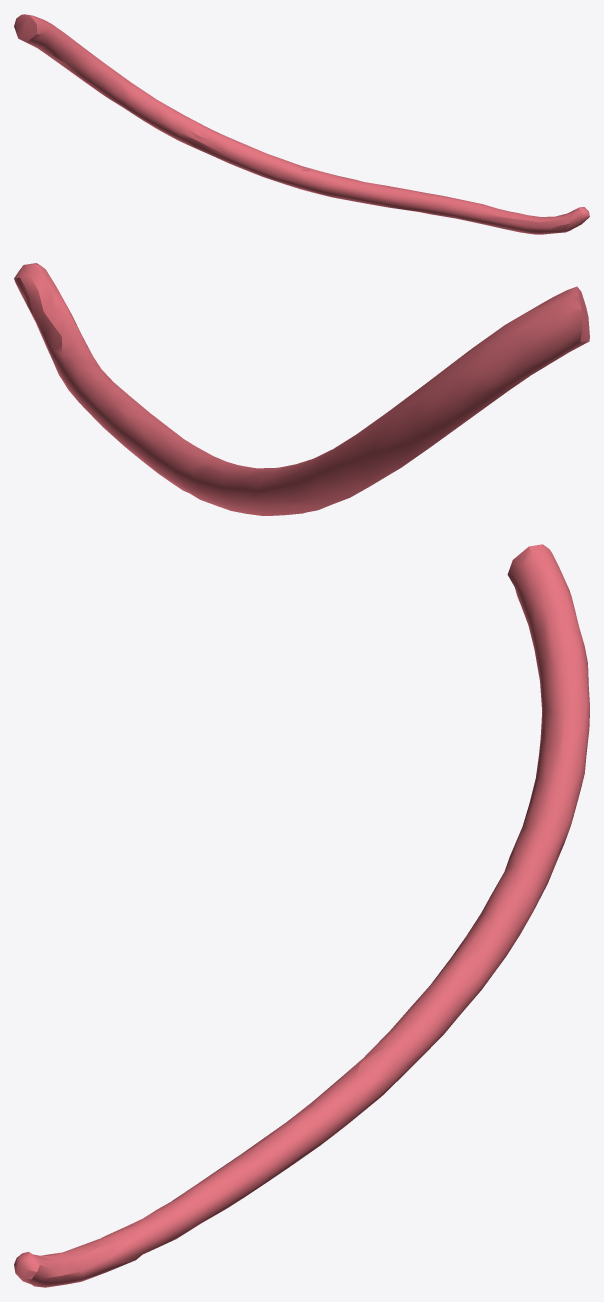
The model's file is fma3837_mm444.glb.
The picture shows the model from 3 angles, top to bottom: view 1: azimuth 30°, elevation 25°; view 2: azimuth 150°, elevation 25°; view 3: azimuth 270°, elevation 25°; orthographic projection. The views are drawn at different scales.
Parts seen in each view (by area): view 1: FMA3837_MM444; view 2: FMA3837_MM444; view 3: FMA3837_MM444.
Boxes of the visible parts, x1,y1,x2,y2 form: FMA3837_MM444: (14,14,589,234); FMA3837_MM444: (14,263,589,515); FMA3837_MM444: (14,544,589,1287).
Bounding box in the file's own units: 0.0442 × 0.0218 × 0.0285.
